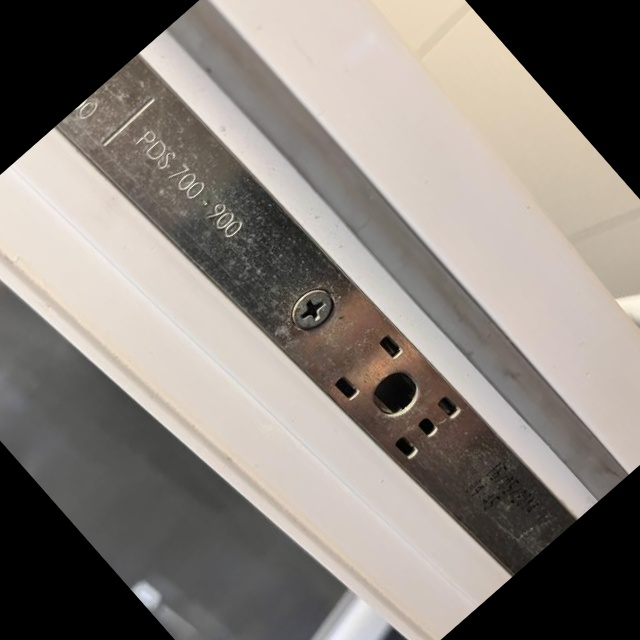phillips: (282, 280, 343, 339)
